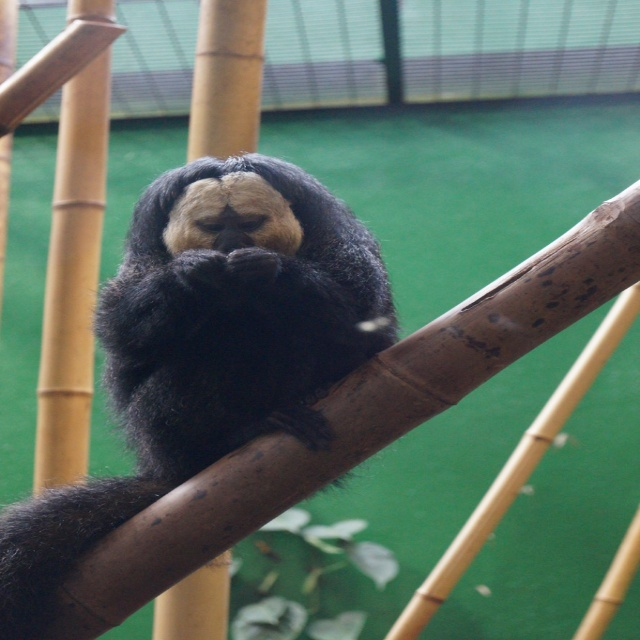Monkey: (0, 151, 409, 640)
